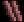wood: (1, 0, 23, 22)
